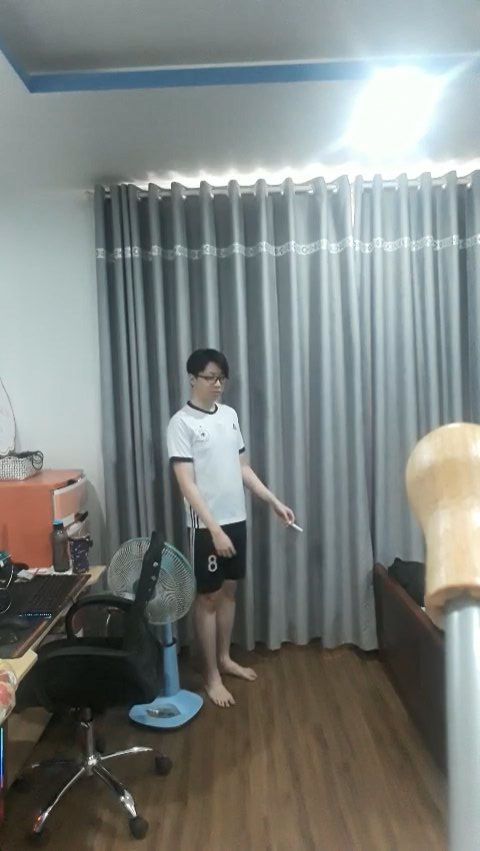cigarette: (169, 346, 280, 690), (290, 519, 305, 537)
